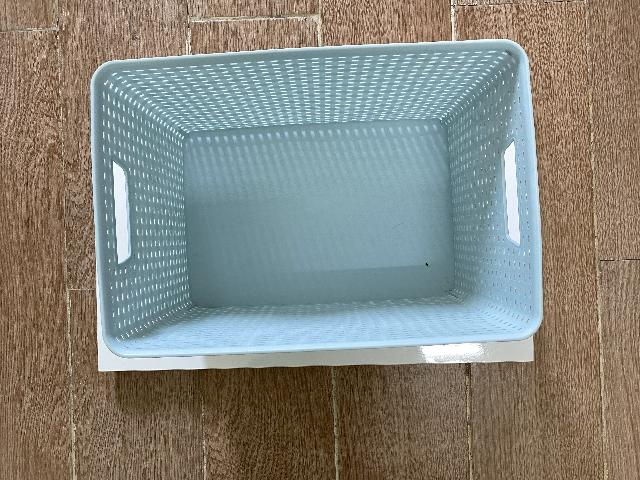cart: (90, 40, 544, 361)
